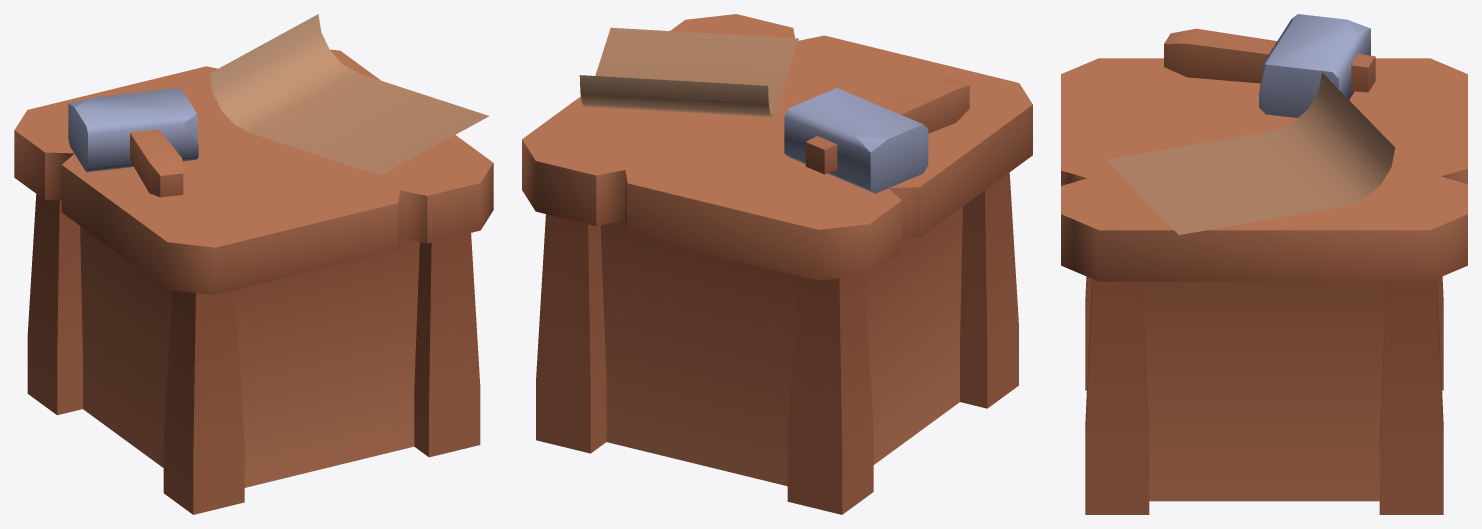
File: survival-workbench.glb
3 renders of one model, left to right at view 1: azimuth 30°, elevation 25°; view 2: azimuth 150°, elevation 25°; view 3: azimuth 270°, elevation 25°, orthographic. The views are drawn at different scales.
Visible parts, largest first — view 1: survival-workbench; view 2: survival-workbench; view 3: survival-workbench.
Boxes of the visible parts, left/top/right/bottom form: survival-workbench: left=14, top=14, right=493, bottom=514; survival-workbench: left=522, top=14, right=1032, bottom=514; survival-workbench: left=1061, top=14, right=1467, bottom=514.
Size of the model in its own units: 0.3257 by 0.2866 by 0.2957.
